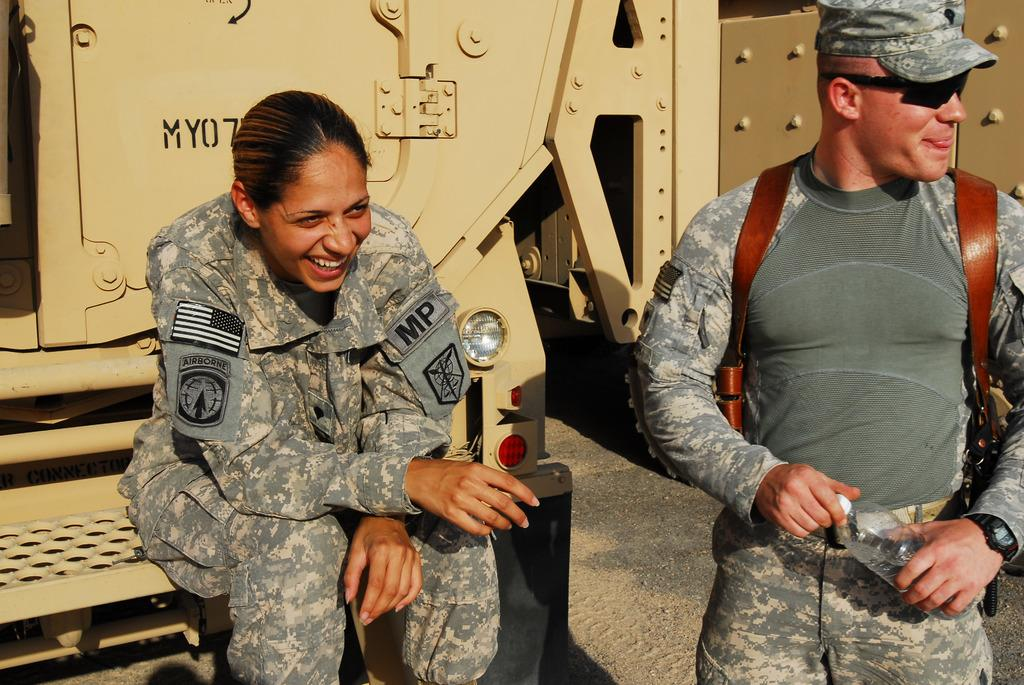Hat: (812, 0, 998, 84)
